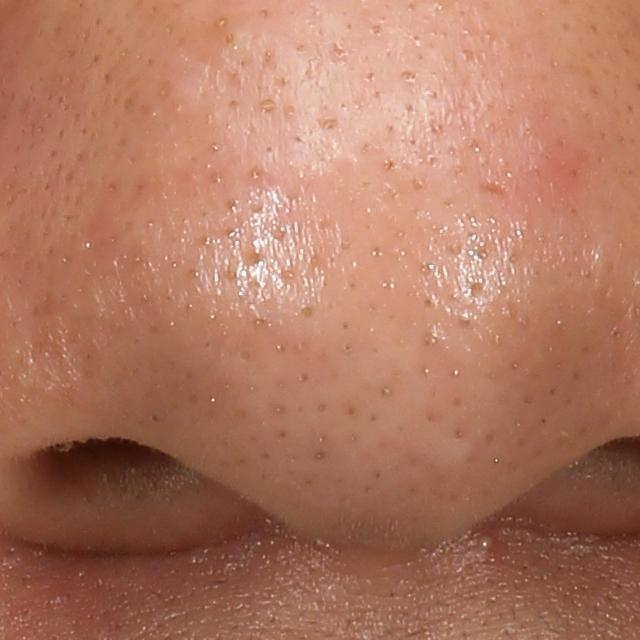comedo: (397, 68, 419, 85), (257, 96, 276, 113), (368, 22, 385, 35)
